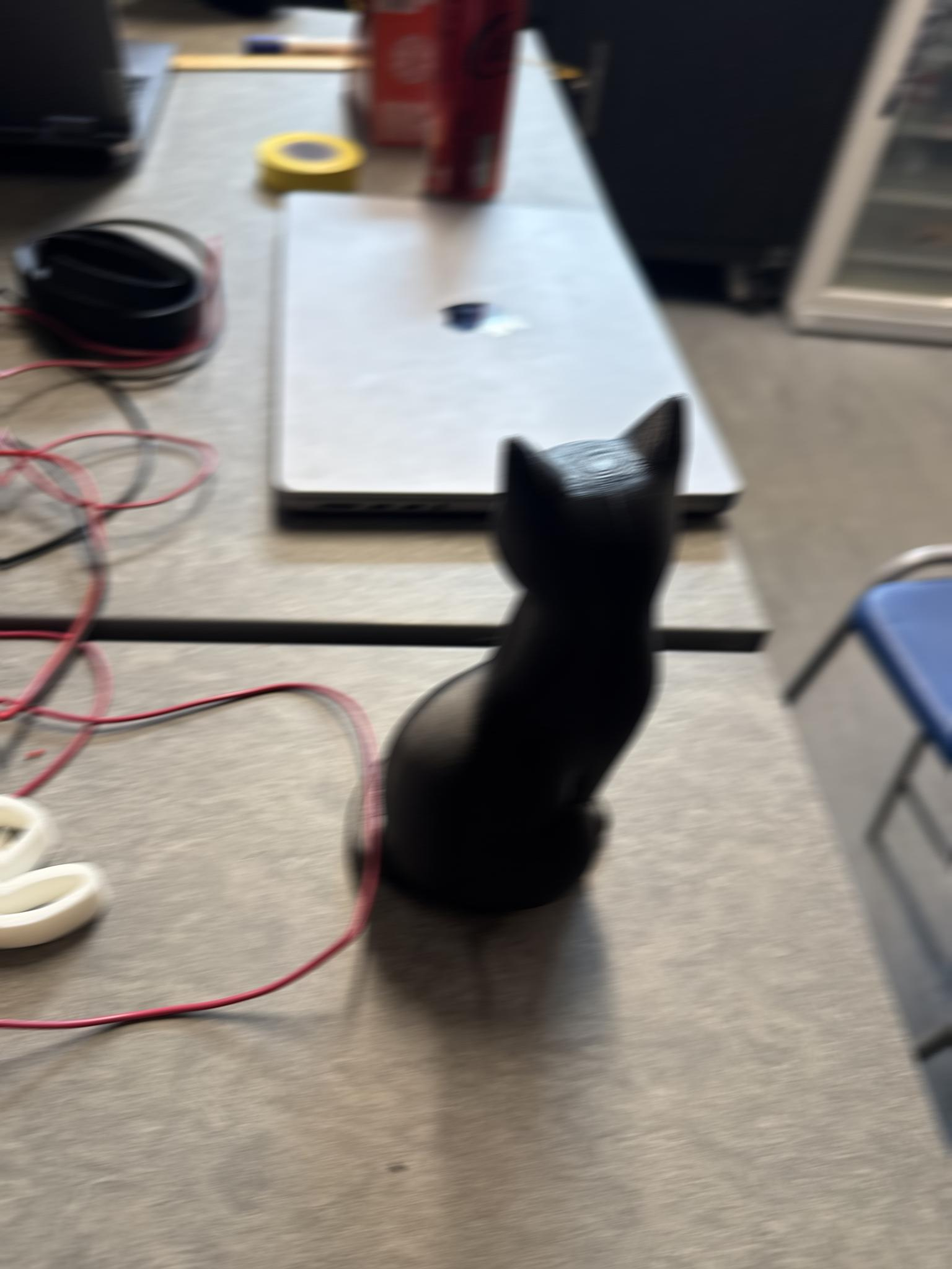cat: (375, 394, 688, 911), (377, 396, 687, 911)
